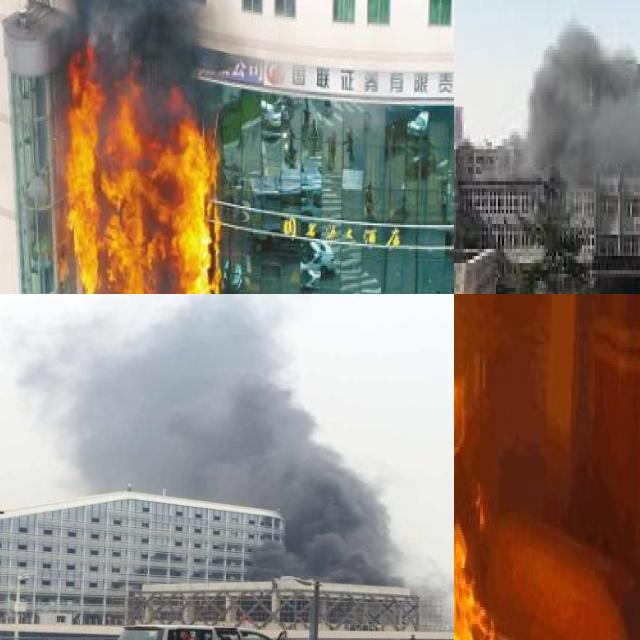fire: (63, 32, 218, 294), (454, 294, 506, 640)
smoke: (9, 294, 408, 585), (504, 0, 640, 199), (53, 0, 206, 80)
